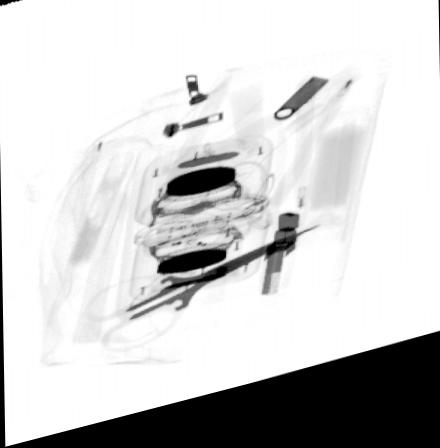Scissors: (88, 240, 323, 357)
